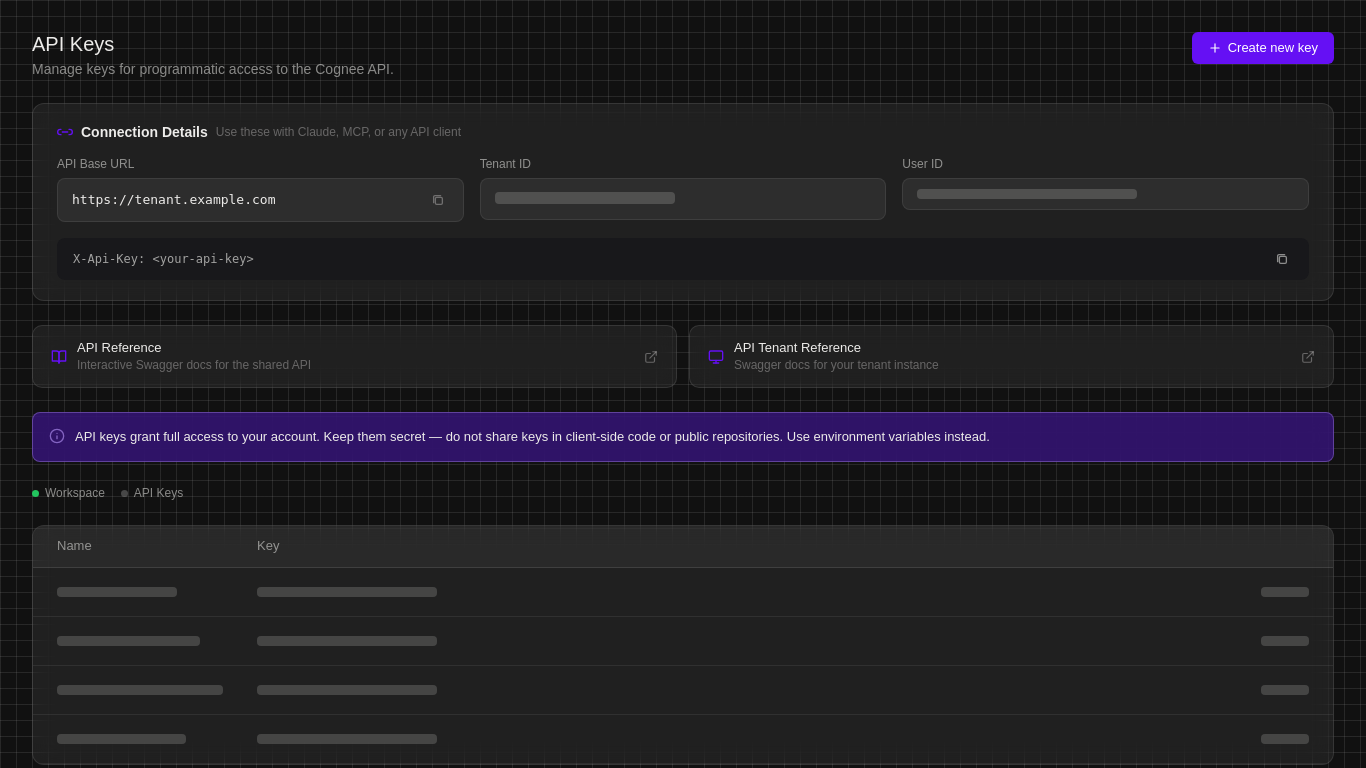
Test: ApiKeysPage create-key failure › shows a persistent error in the modal when the backend refuses, not only a toast
Click the button with test id "api-key-create-open": (1263, 48) [1192,32,1334,64]
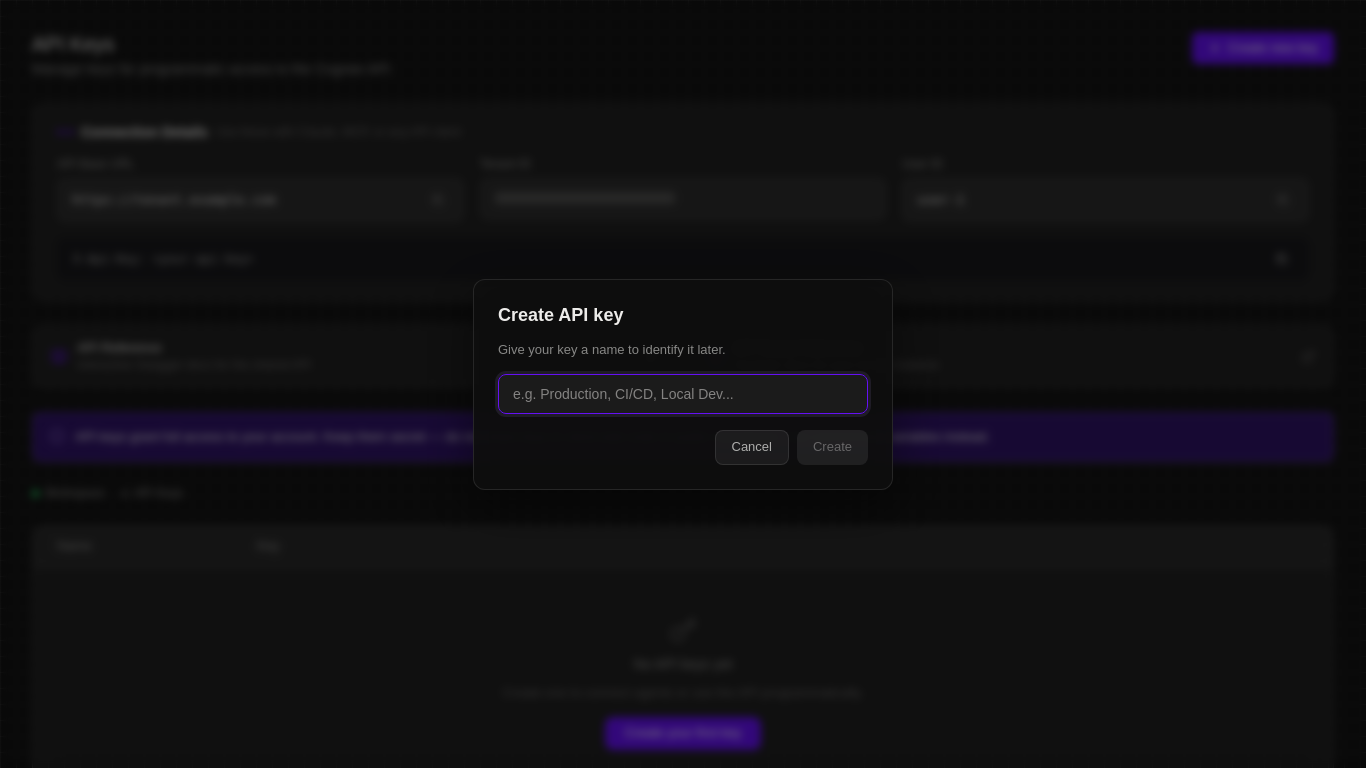
In the field with test id "api-key-name-input": (683, 394) [498,374,868,414], type "ci-key"
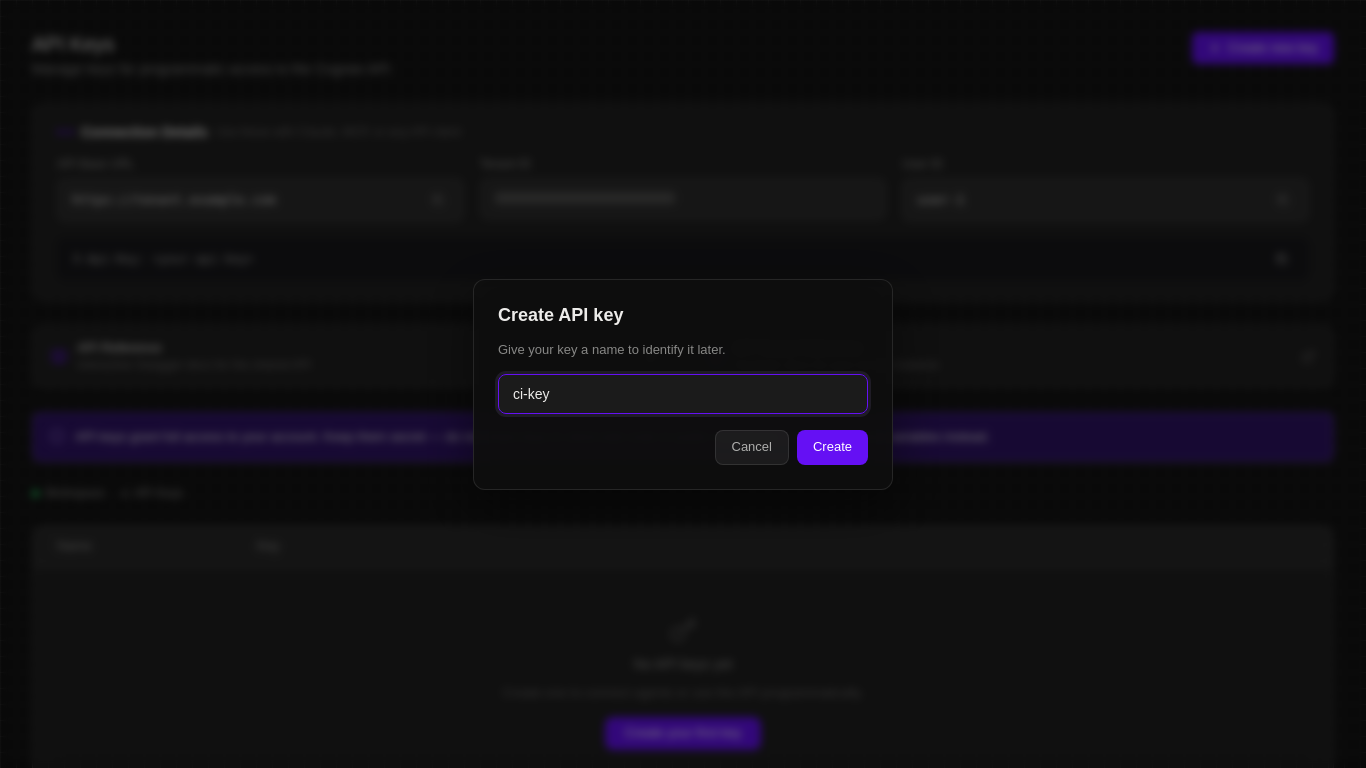
Click the button with test id "api-key-create-submit": (832, 447) [797,430,868,465]
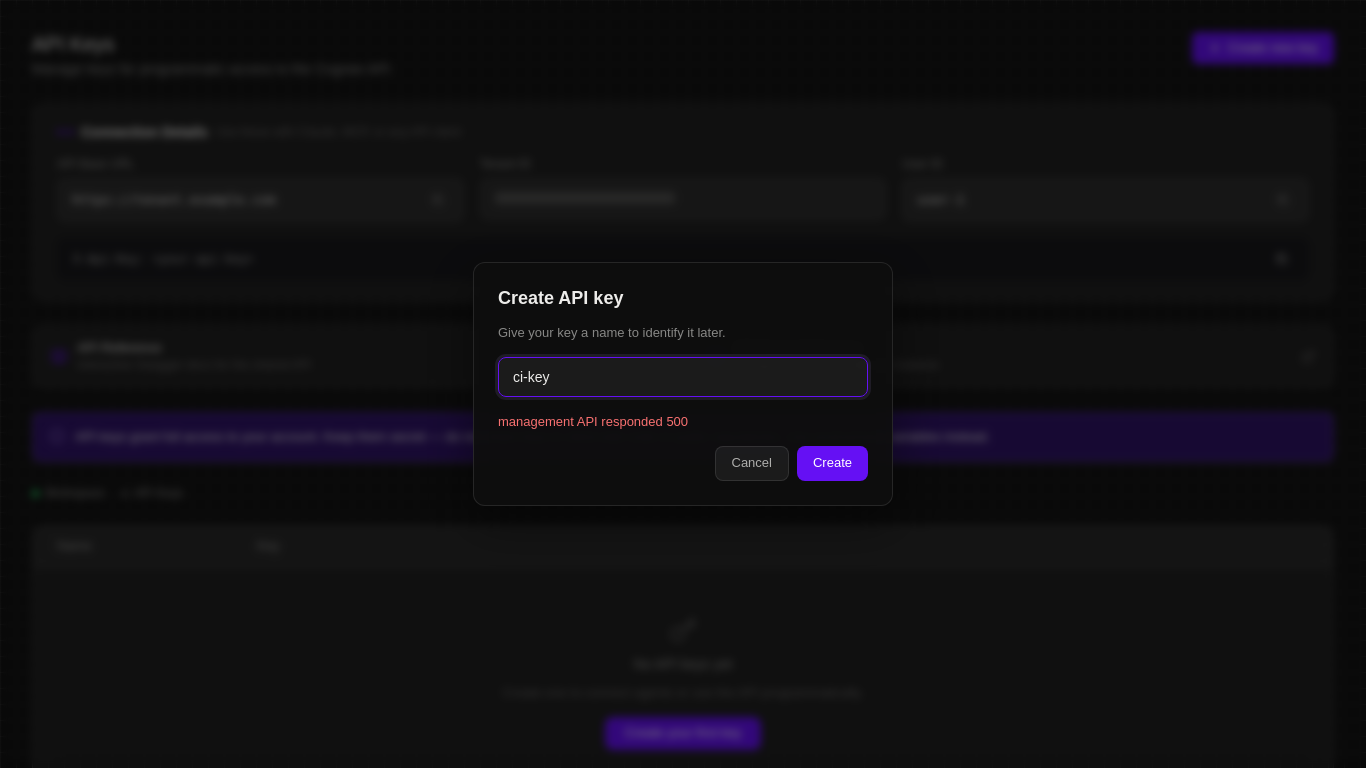
Expected: the text with test id "api-key-create-error" reads "management API responded 500", [498,414,688,429]
